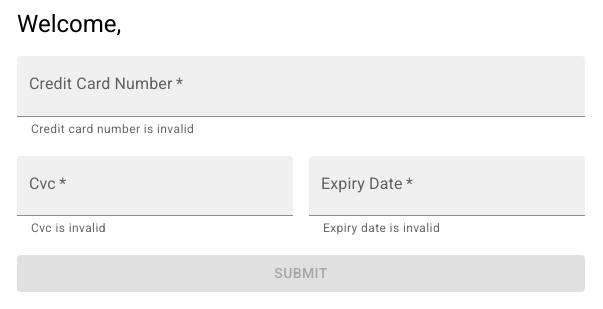
RegisterCardForm Tests › Should show card number with correct space
Type "1234567890123456" into the field with test id "CardNumberFormat" at (301, 86), box x1=17 y1=56 x2=585 y2=117
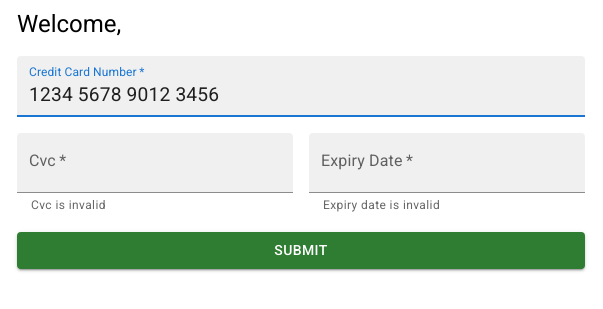
Expected: the field with test id "CardNumberFormat" holds "1234 5678 9012 3456", x1=17 y1=56 x2=585 y2=117
